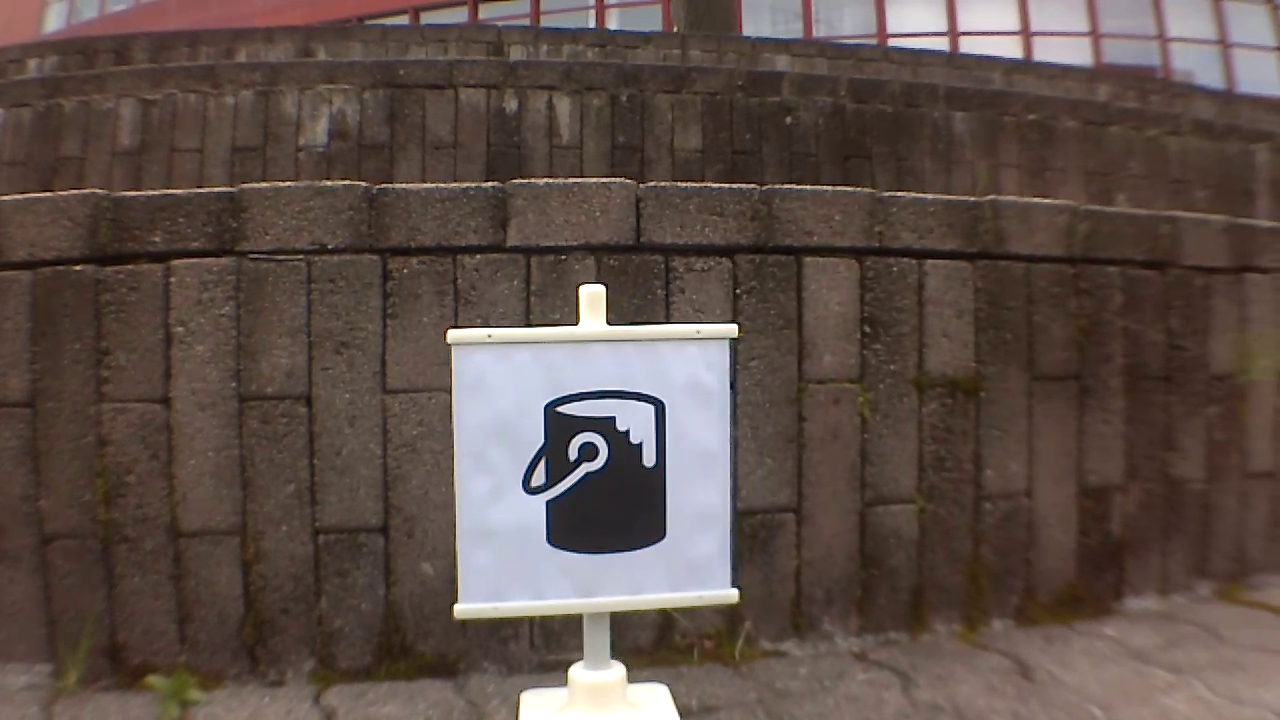bucket: (518, 381, 679, 560)
